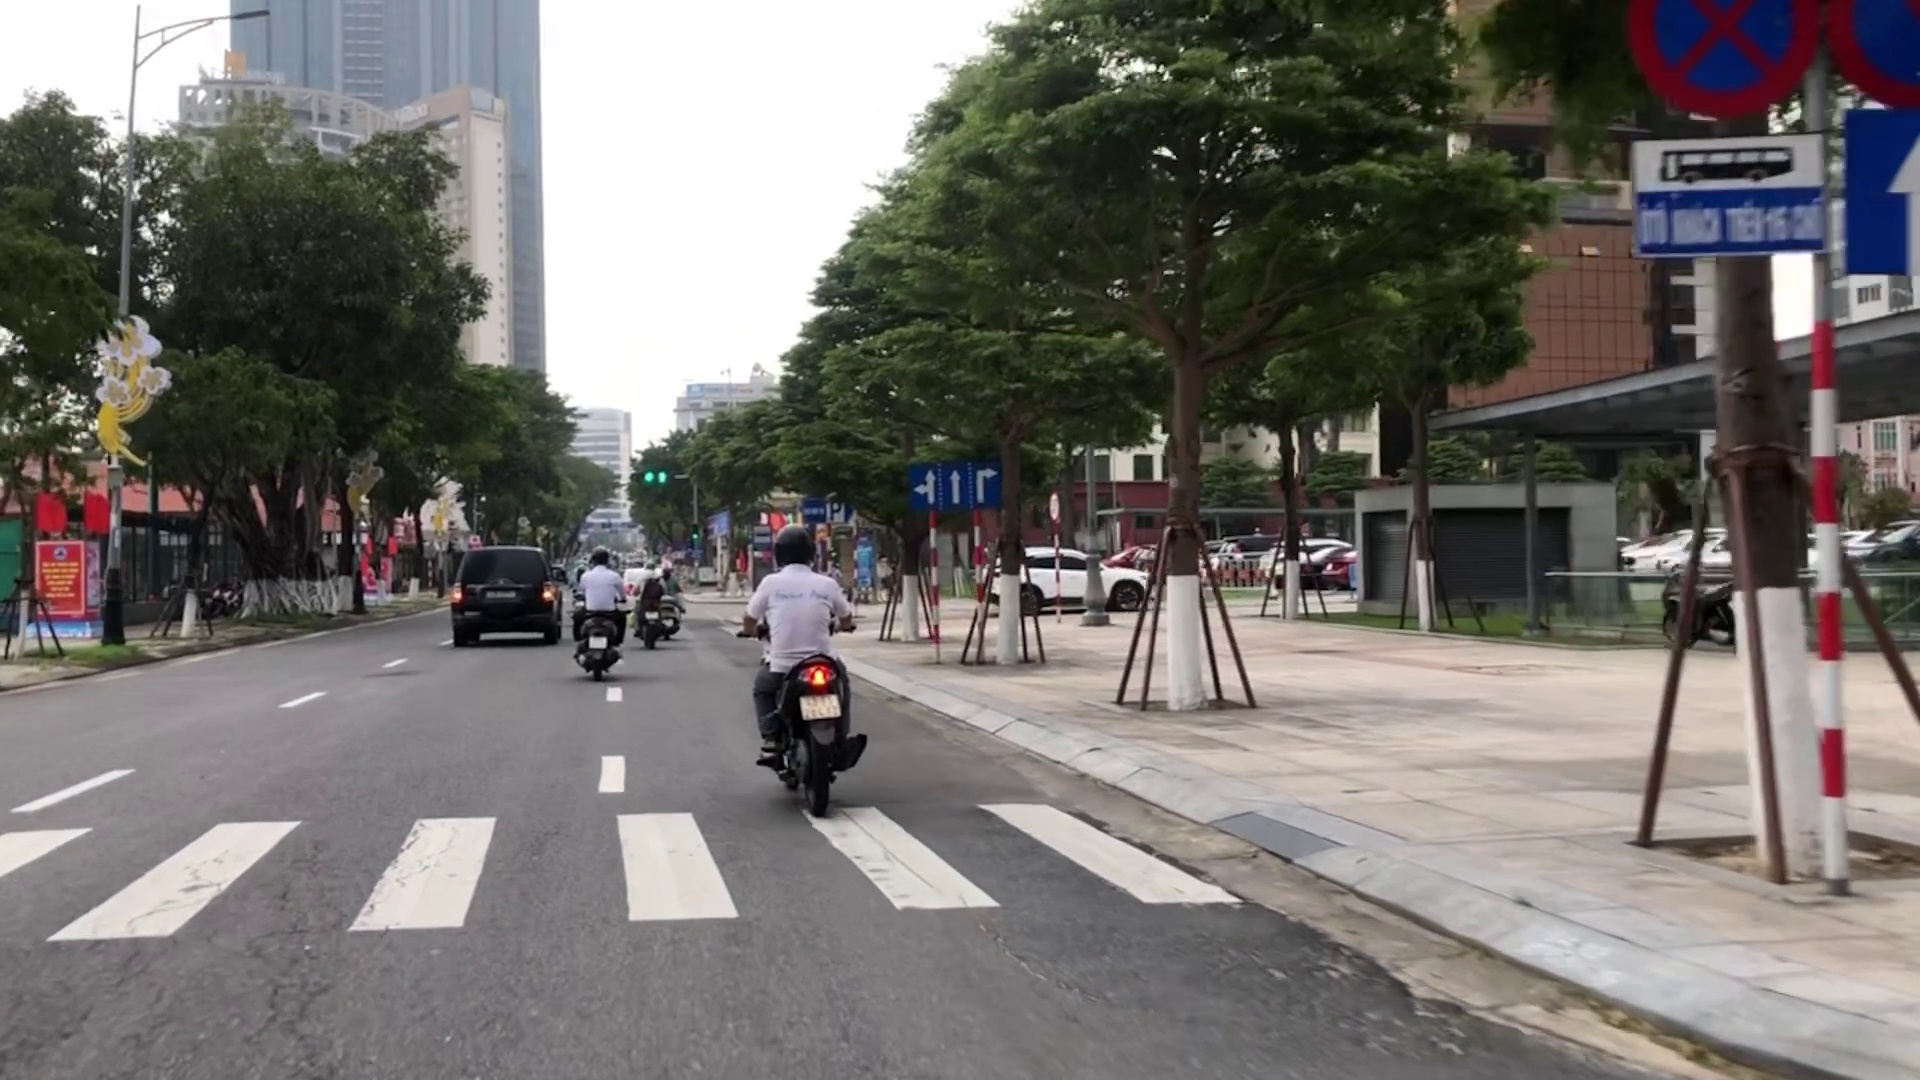Bien khac: (1631, 142, 1832, 252), (1627, 4, 1816, 119), (1847, 113, 1919, 277), (906, 460, 1000, 513)
